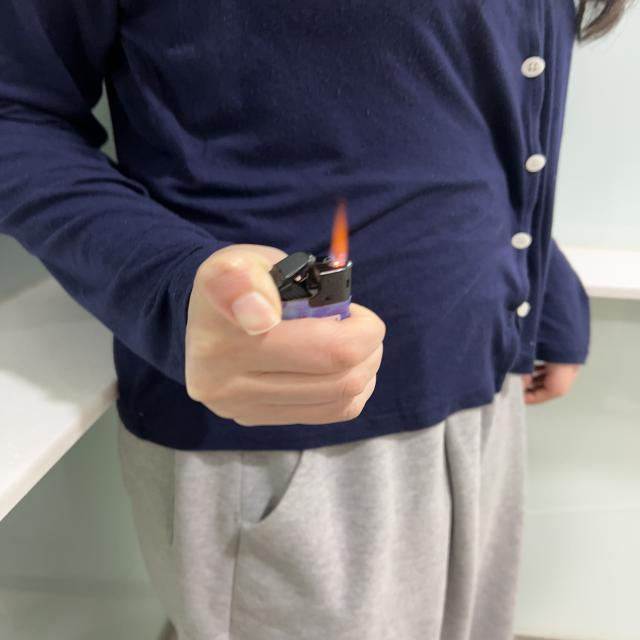fire: (330, 196, 347, 269)
